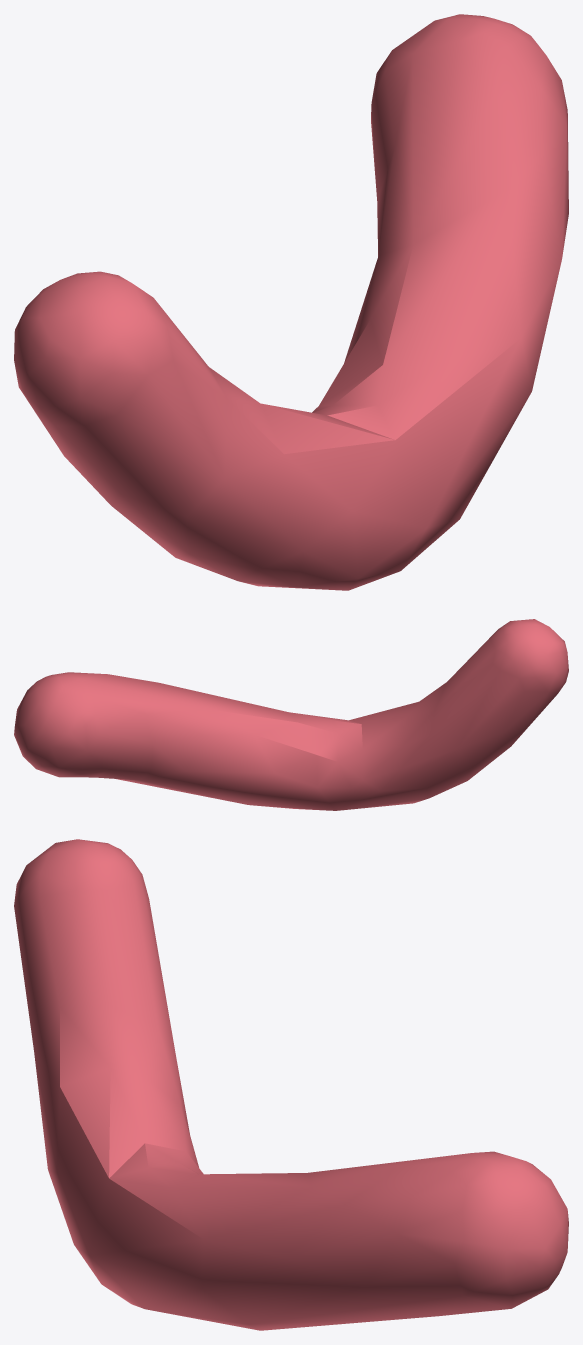
Rendered from fma76536_fj3078.glb.
3 views of the same model, one above another, from view 1: azimuth 30°, elevation 25°; view 2: azimuth 150°, elevation 25°; view 3: azimuth 270°, elevation 25° (orthographic). The views are drawn at different scales.
Visible parts, largest first — view 1: FMA76536_FJ3078; view 2: FMA76536_FJ3078; view 3: FMA76536_FJ3078.
Boxes of the visible parts, box(x1,y1,x2,y2) form: FMA76536_FJ3078: box(14, 14, 568, 590); FMA76536_FJ3078: box(14, 619, 568, 810); FMA76536_FJ3078: box(14, 839, 568, 1330).
Size of the model in its own units: 0.0211 by 0.0102 by 0.0158.
